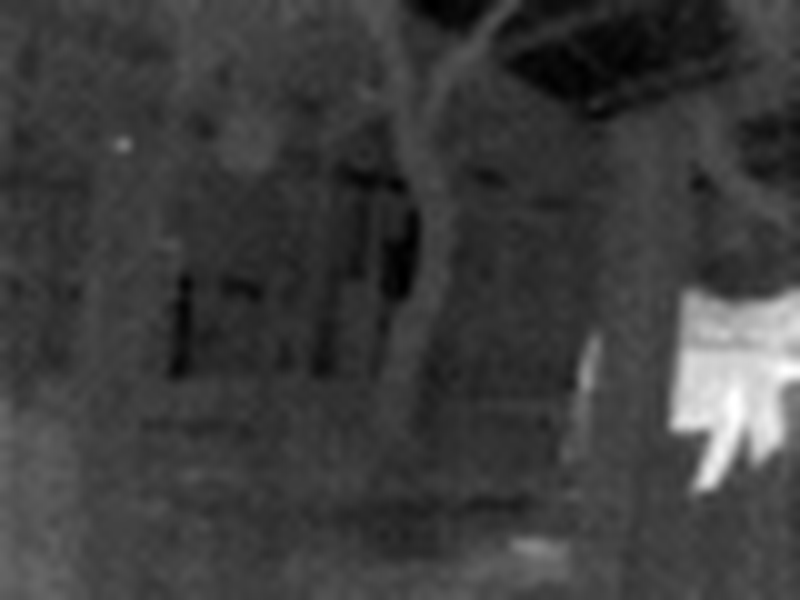elephant: (565, 278, 800, 500)
